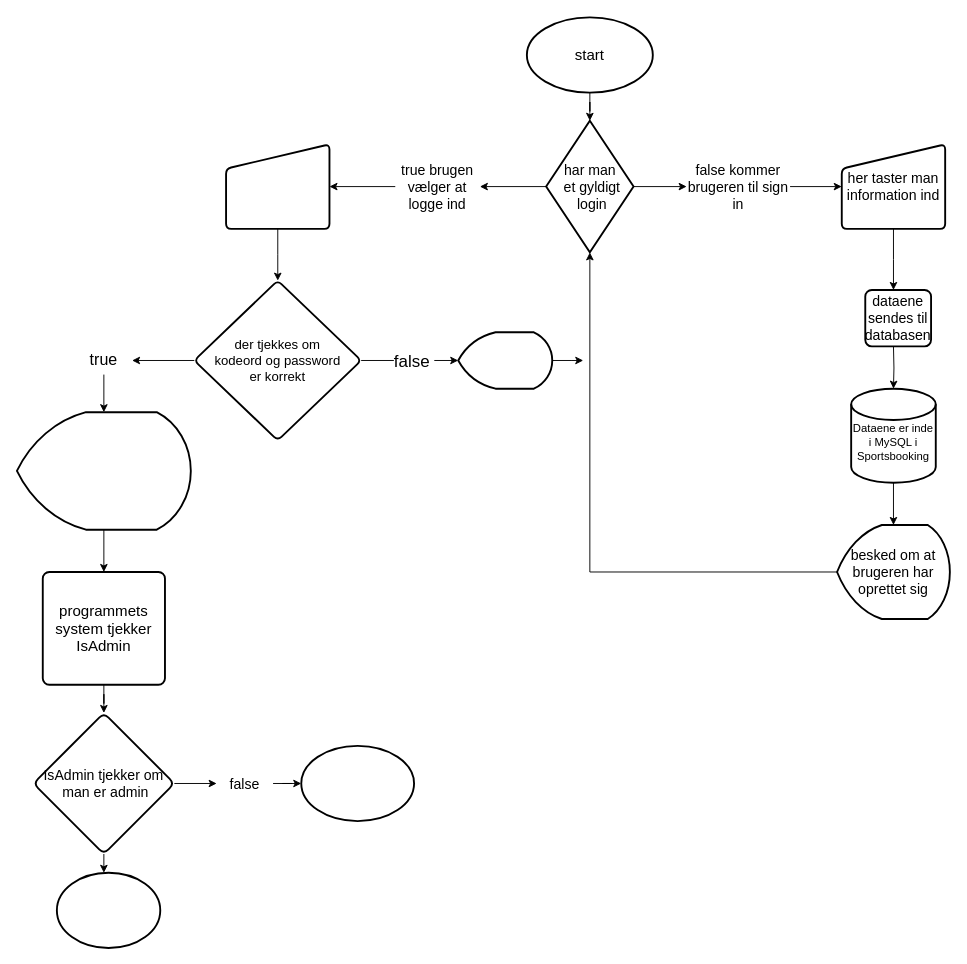
The diagram is 967 pixels wide and 964 high, and some of its shapes have lost their labels. The centre of each missing label's shape, as x and y in pixels:
"bliver sendt videre som admin" belongs at (108,909).
"bliver sendt videre som kunde" belongs at (357,783).
"brugeren får at vide at login er korrekt, brugeren/admin er godkendt" belongs at (103,470).
"der indtastes brugernavn og kodeord" belongs at (277,186).
"det mislykkes prøv igen" belongs at (505,360).
